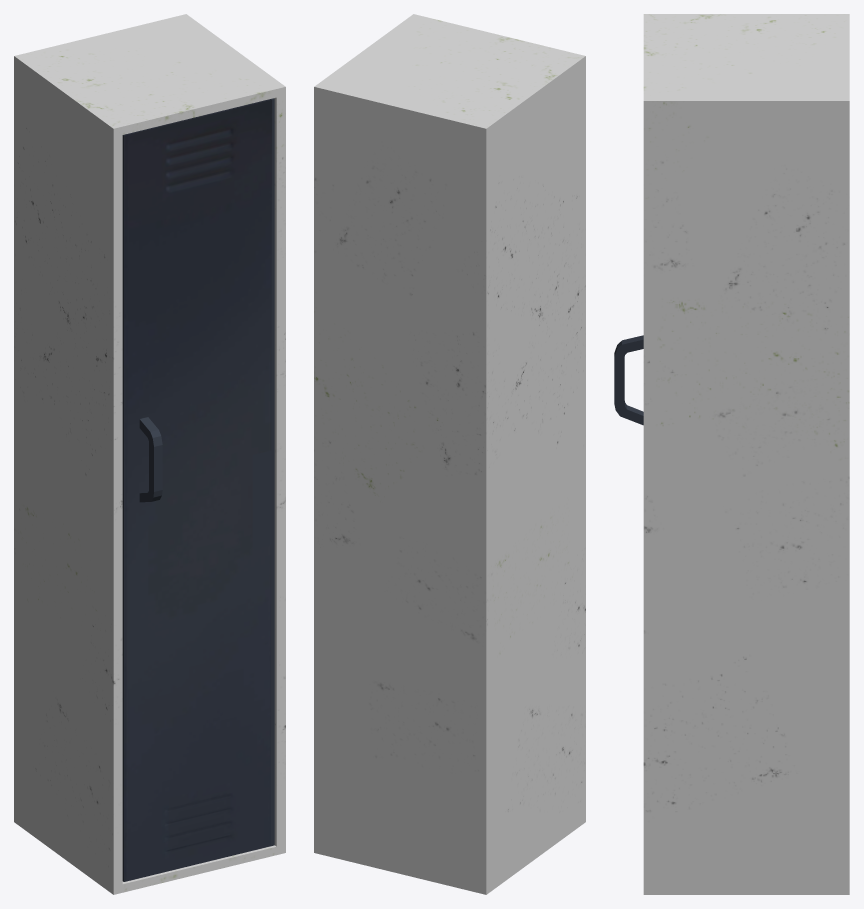
Rendered from Locker.fbx.
3 views of the same model, side by side, from view 1: azimuth 30°, elevation 25°; view 2: azimuth 150°, elevation 25°; view 3: azimuth 270°, elevation 25° (orthographic). The views are drawn at different scales.
Parts seen in each view (by area): view 1: LockerDeur, Locker; view 2: Locker; view 3: Locker, LockerDeur.
Part boxes in pixels (box(x1,y1,x2,y2)): LockerDeur: box(122, 98, 274, 881); Locker: box(14, 14, 285, 894); Locker: box(314, 14, 585, 894); Locker: box(643, 14, 849, 894); LockerDeur: box(614, 335, 643, 425).
Bounding box in the file's own units: 40 × 170 × 45.65.
